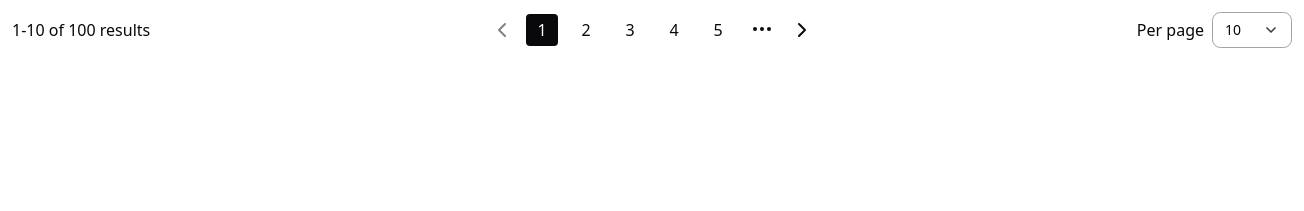
Test: TablePagination › Page Size Selection › renders default page size options
Click the dropdown with test id "table-pagination-page-size-trigger" at [1252, 30], box [1212,12,1292,48]
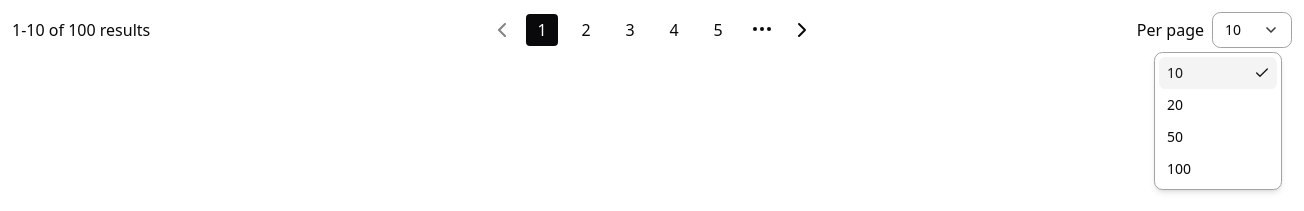
expect the option with test id "table-pagination-page-size-option-20" is shown: met, box [1167,95,1183,114]
